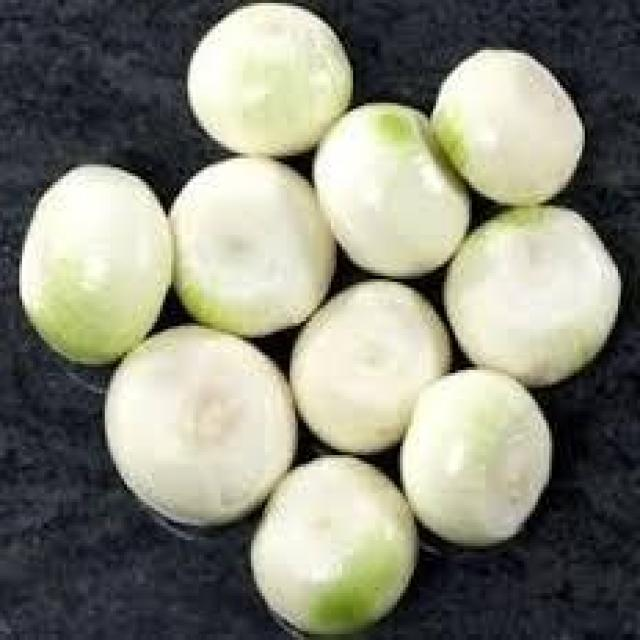Onion: (95, 329, 305, 543), (440, 201, 630, 392), (166, 152, 350, 340), (11, 161, 171, 370), (242, 458, 424, 640), (274, 278, 456, 460), (390, 362, 562, 554), (309, 101, 483, 289), (416, 45, 598, 210), (182, 3, 361, 170)
